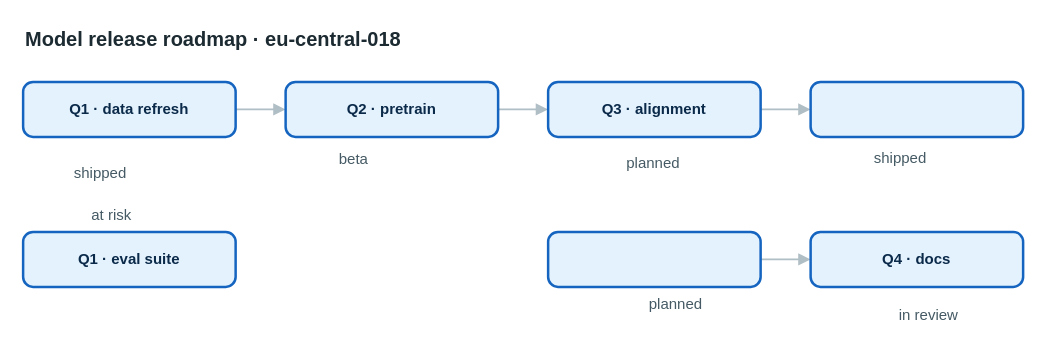
Image size: 1045x346. Some labels were removed from this diagram. The shapes that lost their labels are listed below. From the top down, each one's centre as x and y in pixels, then its label:
At (916,109): "Q4 · launch".
At (653,259): "Q3 · serving".
